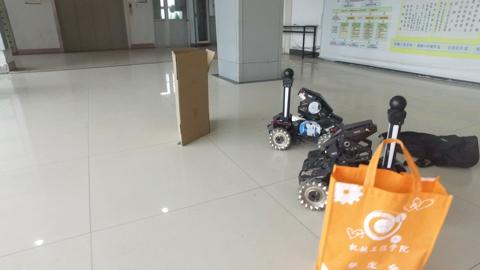box: (170, 48, 212, 143)
chariot: (298, 91, 440, 206), (264, 65, 350, 150)
